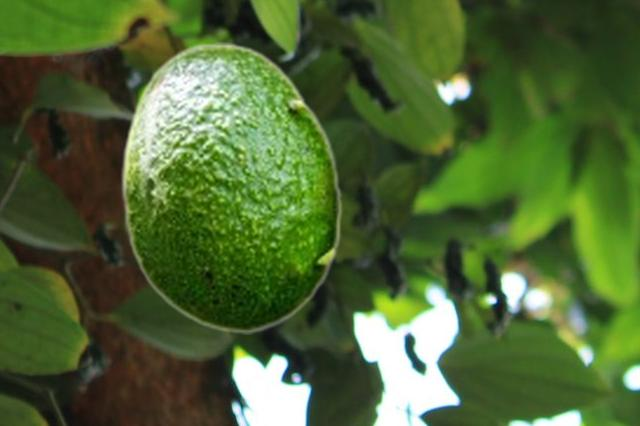avocado: (119, 42, 342, 333)
